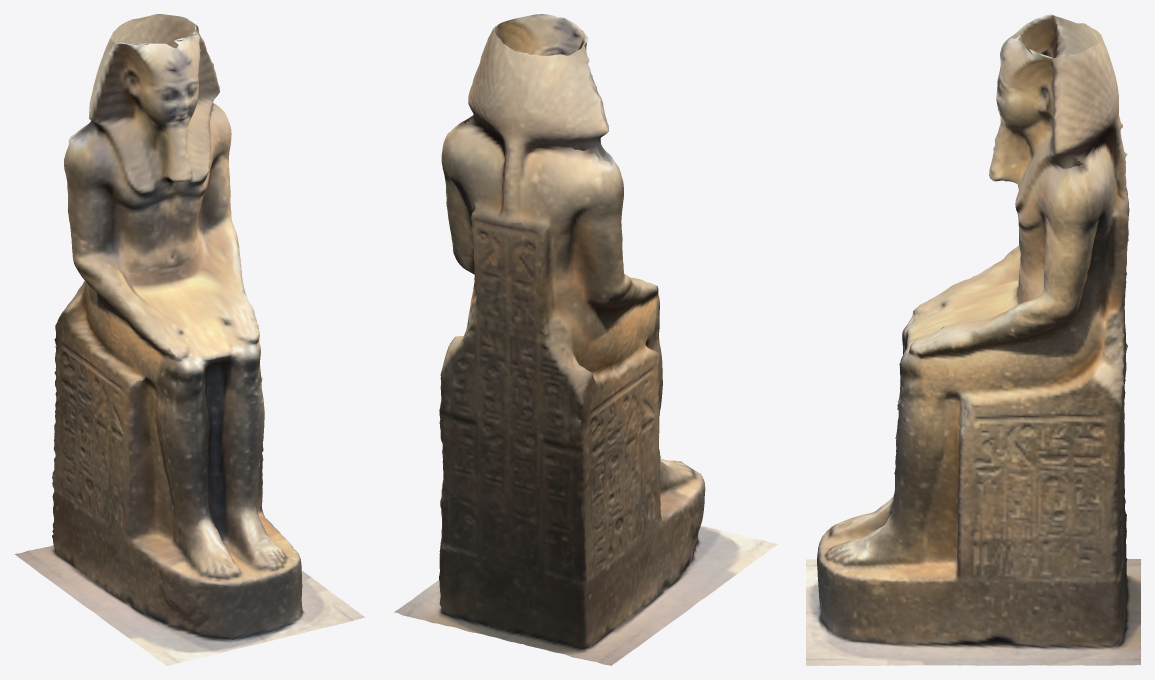
File: oeuvre5.glb
The picture shows the model from 3 angles, left to right: view 1: azimuth 30°, elevation 25°; view 2: azimuth 150°, elevation 25°; view 3: azimuth 270°, elevation 25°; orthographic projection. The views are drawn at different scales.
Visible parts, largest first — view 1: Object_2; view 2: Object_2; view 3: Object_2.
Boxes of the visible parts, bbox=[...] form: Object_2: bbox=[14, 14, 365, 665]; Object_2: bbox=[394, 14, 777, 665]; Object_2: bbox=[806, 14, 1140, 665].
Bounding box in the file's own units: 1.03 × 2.63 × 1.37.
Materials: 1 (1 with a texture image).
